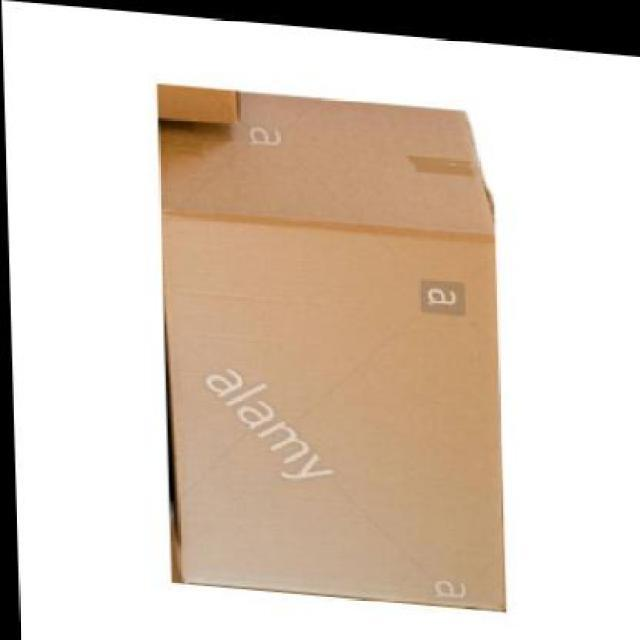box: (160, 81, 504, 602)
